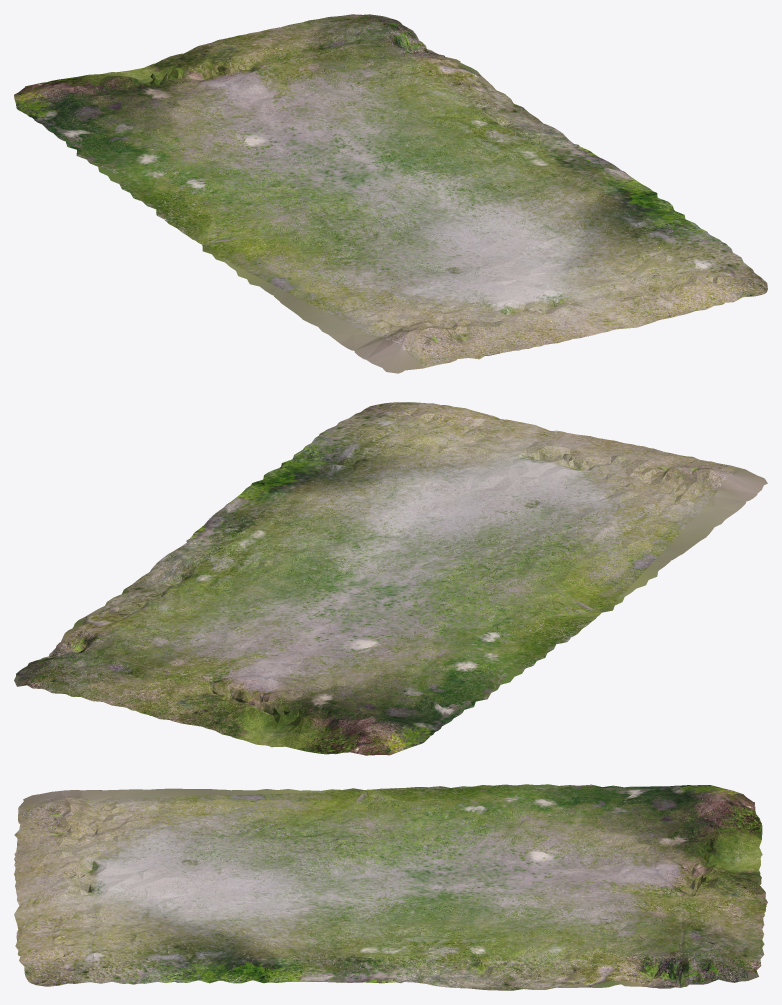
File: field.glb
3 renders of one model, top to bottom at view 1: azimuth 30°, elevation 25°; view 2: azimuth 150°, elevation 25°; view 3: azimuth 270°, elevation 25°, orthographic. The views are drawn at different scales.
Parts seen in each view (by area): view 1: field; view 2: field; view 3: field.
Part boxes in pixels (bbox=[...]): field: bbox=[14, 14, 767, 373]; field: bbox=[14, 402, 767, 755]; field: bbox=[14, 784, 767, 990].
Bounding box in the file's own units: 18.78 × 1.75 × 31.58.
1 material, 1 textured.
